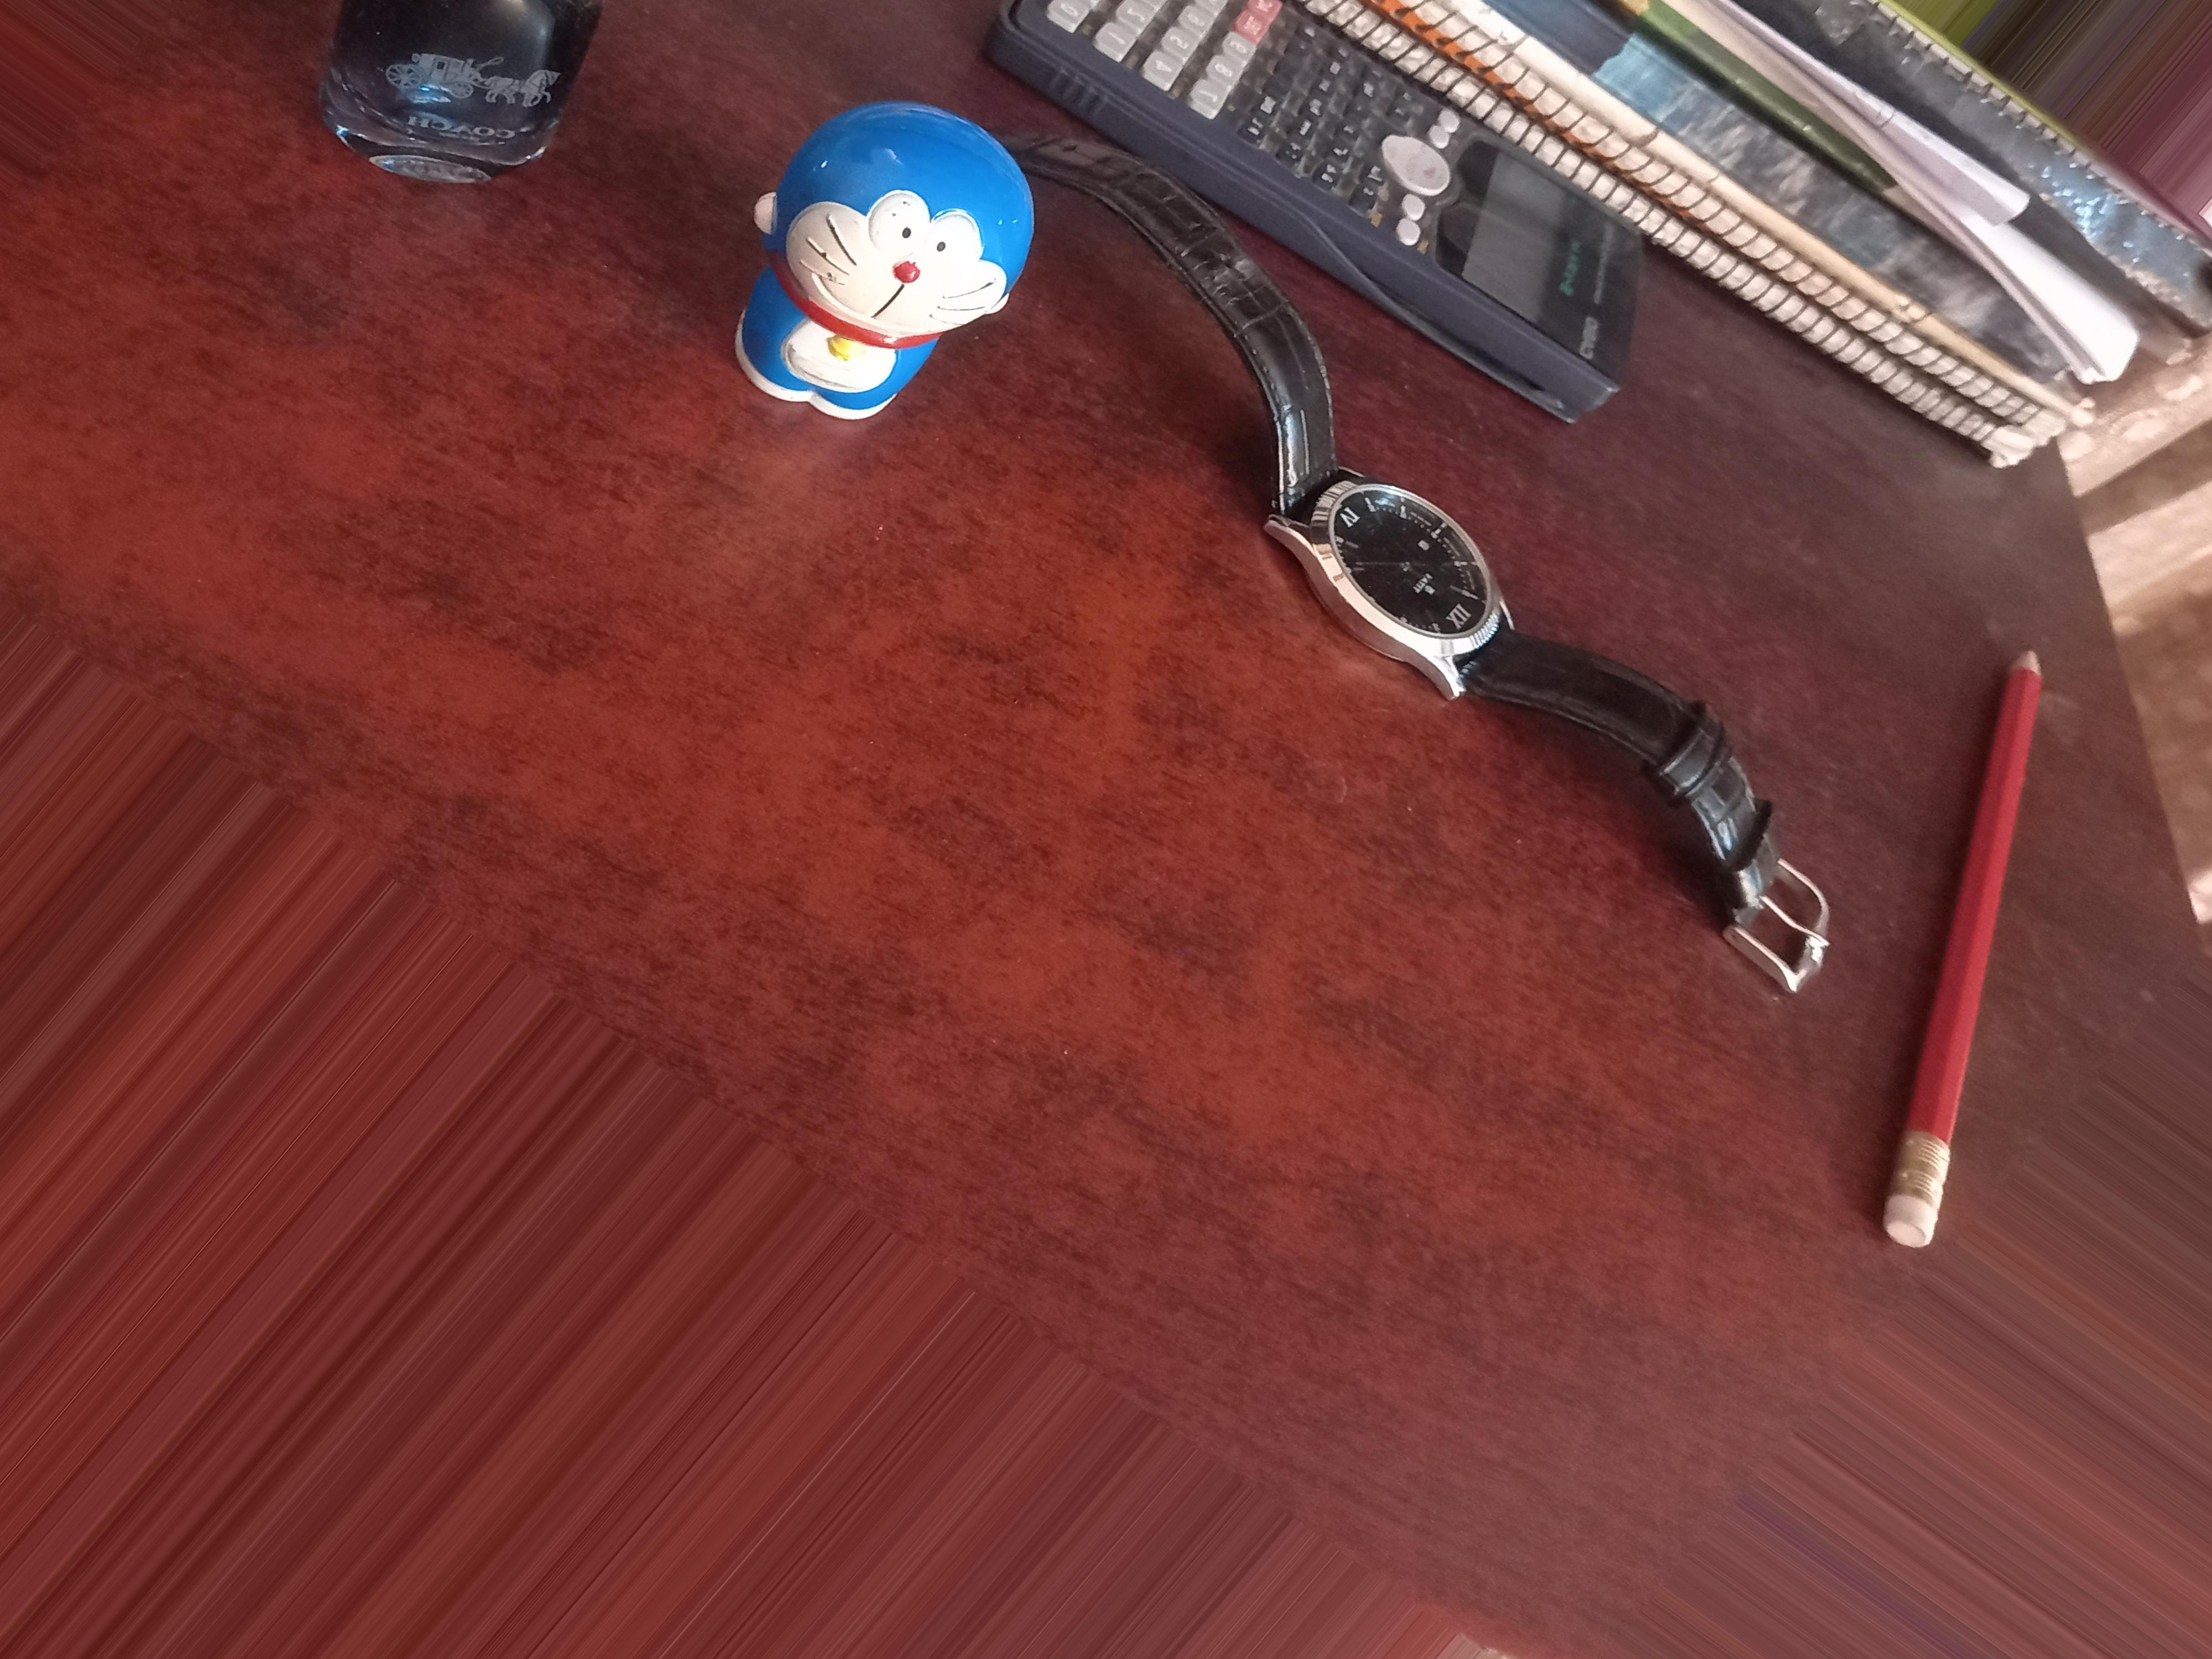calculator: (1381, 49, 1597, 406)
doraemon: (794, 117, 993, 448)
pencil: (1876, 636, 2010, 1288)
perfume: (361, 5, 556, 181)
watch: (1219, 432, 1794, 992)
